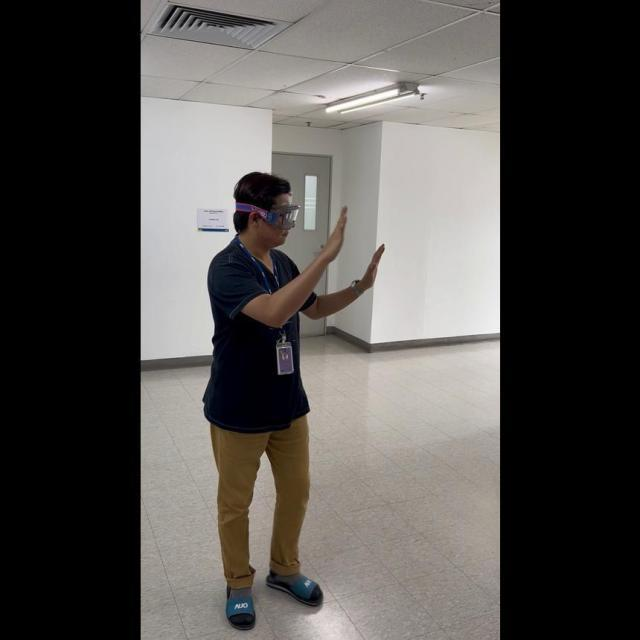bare_hand: (354, 237, 385, 293), (326, 201, 349, 250)
